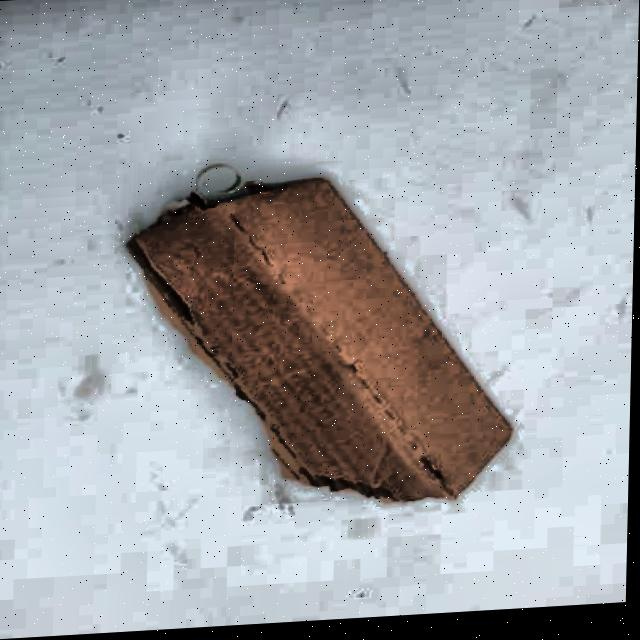cardboard: (120, 161, 524, 522)
